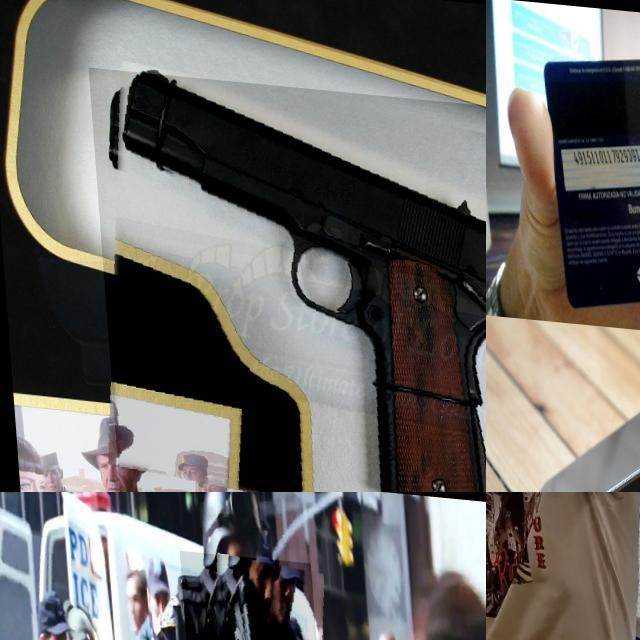gun-knife-thesis - v11 Yolov5 augmented: (86, 66, 486, 492), (178, 544, 338, 640), (486, 492, 540, 640)
